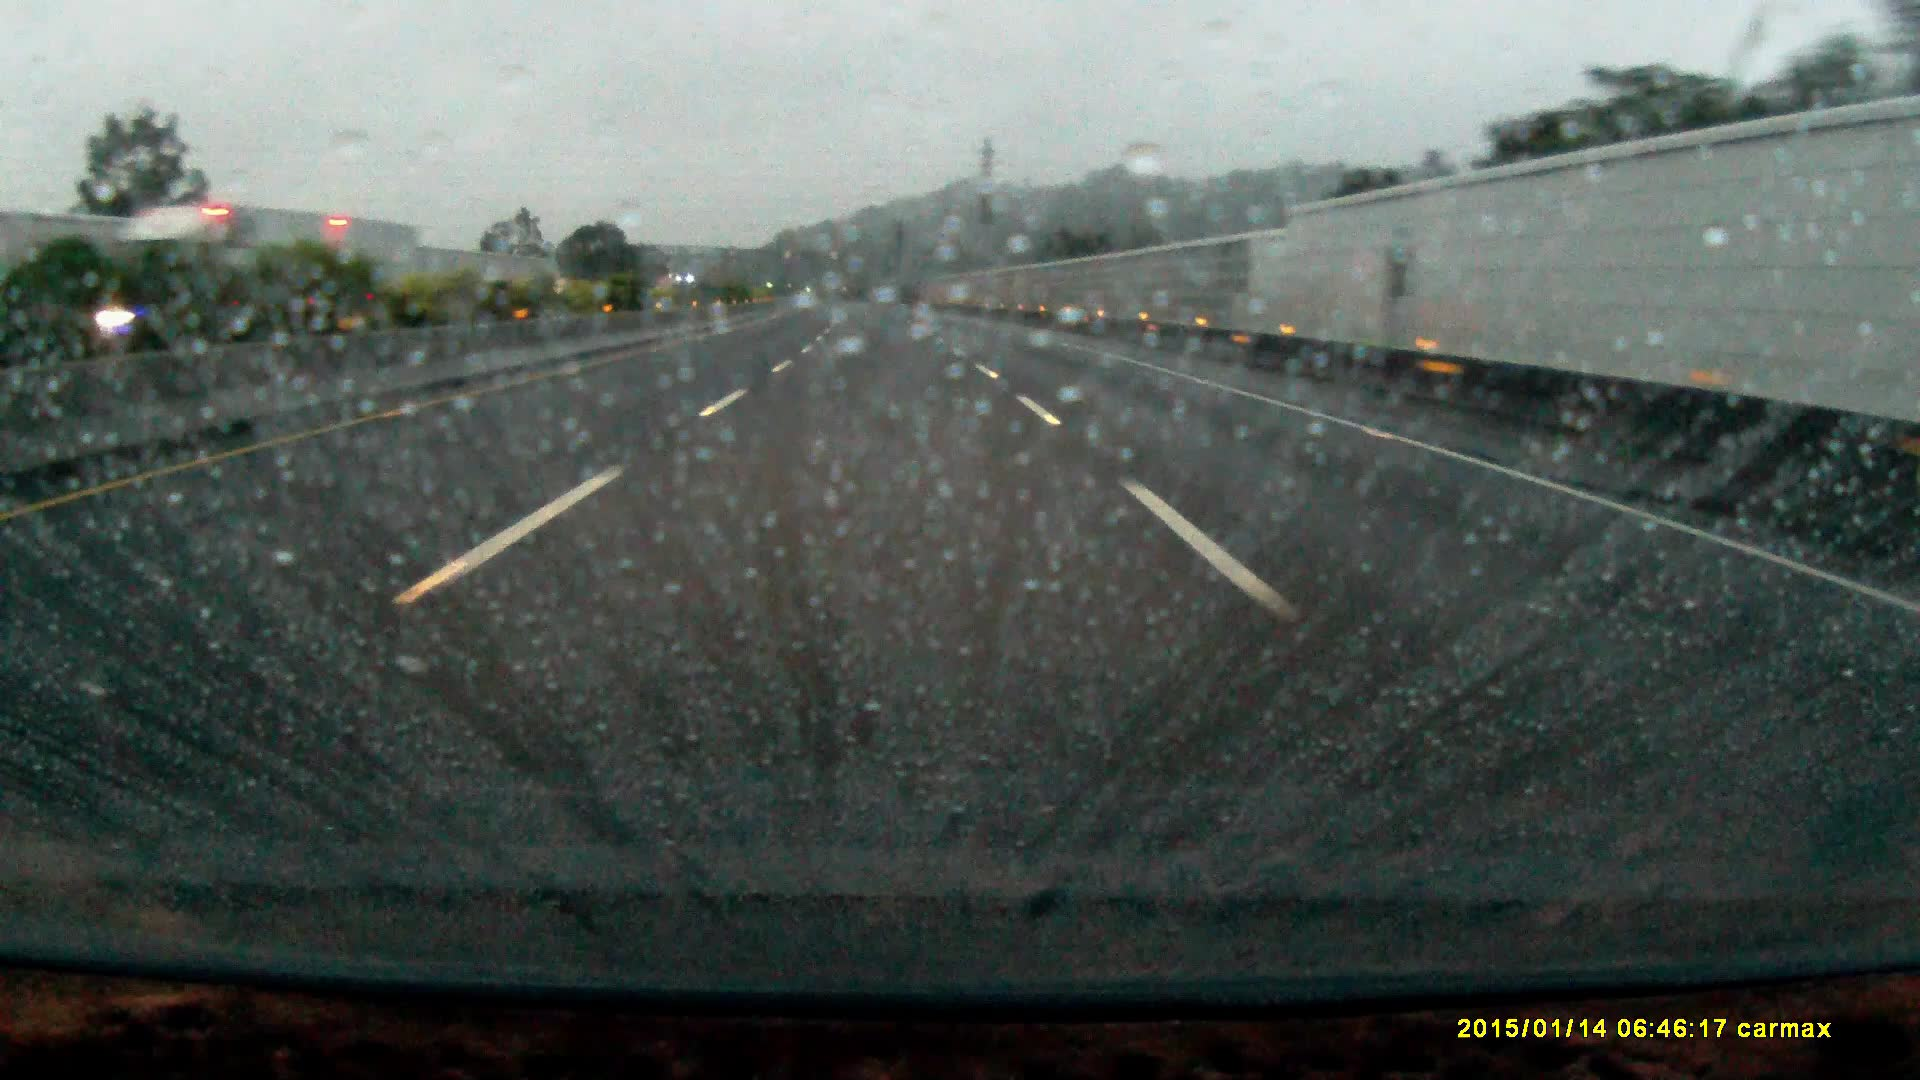vehicle: (123, 211, 414, 334)
